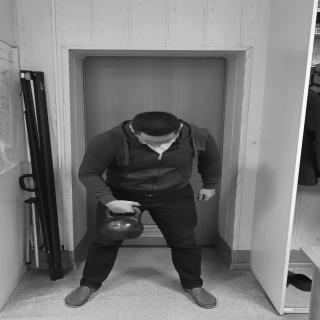girya: (101, 208, 145, 240)
